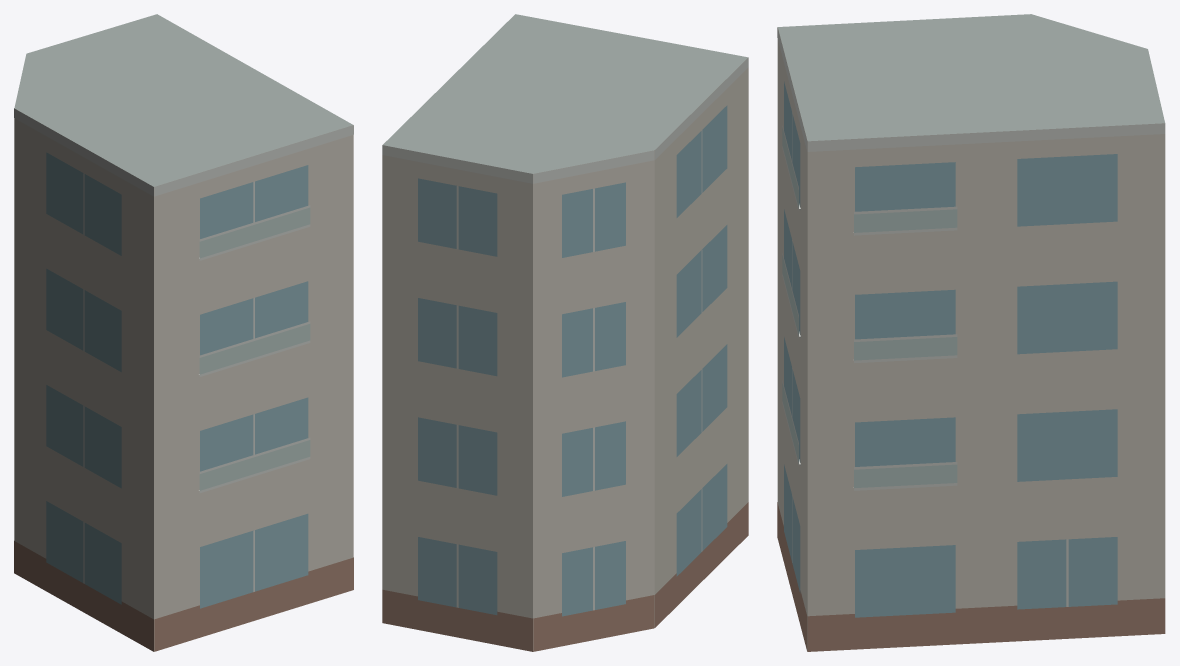
File: survey-upis-32510322.glb
The picture shows the model from 3 angles, left to right: view 1: azimuth 30°, elevation 25°; view 2: azimuth 150°, elevation 25°; view 3: azimuth 270°, elevation 25°; orthographic projection. The views are drawn at different scales.
Parts seen in each view (by area): view 1: survey-upis-32510322.tmp; view 2: survey-upis-32510322.tmp; view 3: survey-upis-32510322.tmp.
Boxes of the visible parts, x1,y1,x2,y2 form: survey-upis-32510322.tmp: (14,14,353,651); survey-upis-32510322.tmp: (382,14,748,651); survey-upis-32510322.tmp: (777,14,1165,651).
Size of the model in its own units: 6.27 by 11.7 by 8.06.
